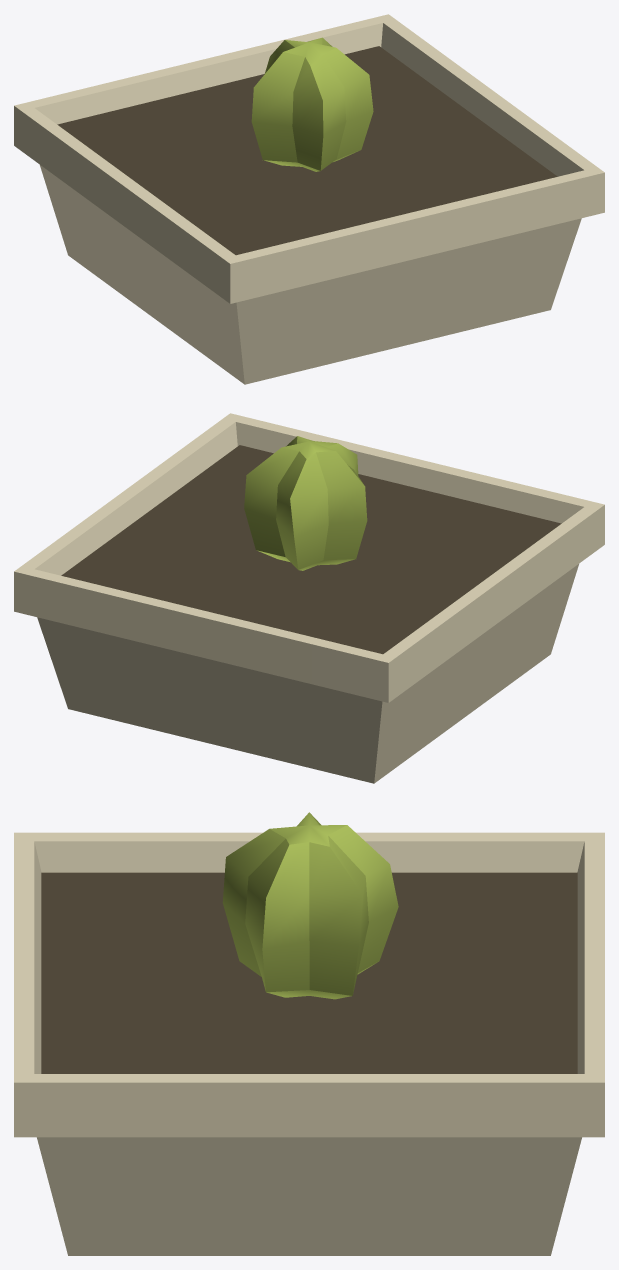
The model's file is plant02_03.gltf.
3 views of the same model, one above another, from view 1: azimuth 30°, elevation 25°; view 2: azimuth 150°, elevation 25°; view 3: azimuth 270°, elevation 25° (orthographic). The views are drawn at different scales.
Visible parts, largest first — view 1: plant02_stage01:pot, plant02_stage01:dirt, pCylinder1; view 2: plant02_stage01:pot, plant02_stage01:dirt, pCylinder1; view 3: plant02_stage01:pot, plant02_stage01:dirt, pCylinder1.
Part boxes in pixels (<box>): plant02_stage01:pot: <box>14,14,604,384</box>; plant02_stage01:dirt: <box>57,46,557,255</box>; pCylinder1: <box>251,37,373,171</box>; plant02_stage01:pot: <box>14,413,604,783</box>; plant02_stage01:dirt: <box>61,445,561,654</box>; pCylinder1: <box>244,436,367,570</box>; plant02_stage01:pot: <box>14,832,604,1255</box>; plant02_stage01:dirt: <box>41,872,577,1073</box>; pCylinder1: <box>222,812,398,999</box>.
Bounding box in the file's own units: 0.0188 × 0.0115 × 0.0188.
1 material, 1 textured.
